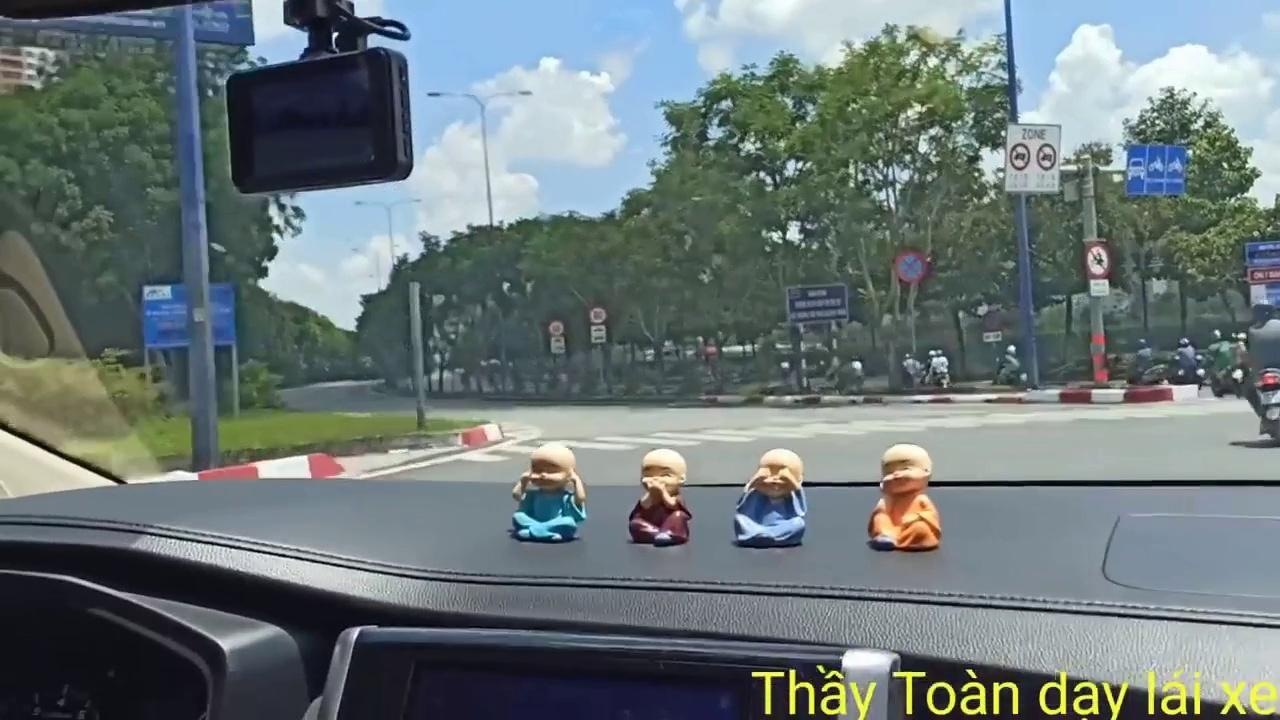Biển phụ: (548, 336, 566, 354), (590, 326, 607, 344)
Cấm cac phương tiện hoạt động trong khung giờ cố định: (1006, 122, 1060, 196)
Cấm dừng - Cấm đỗ: (892, 247, 928, 286)
Cấm xe máy: (1082, 241, 1113, 279)
GIơi hạn tốc độ 60Km/h: (548, 318, 565, 336)
Giới hạn tốc độ 80Km/h: (588, 305, 608, 324)
Khác: (138, 280, 240, 348)
Làn đường cho từng xe: (1124, 142, 1187, 198)
